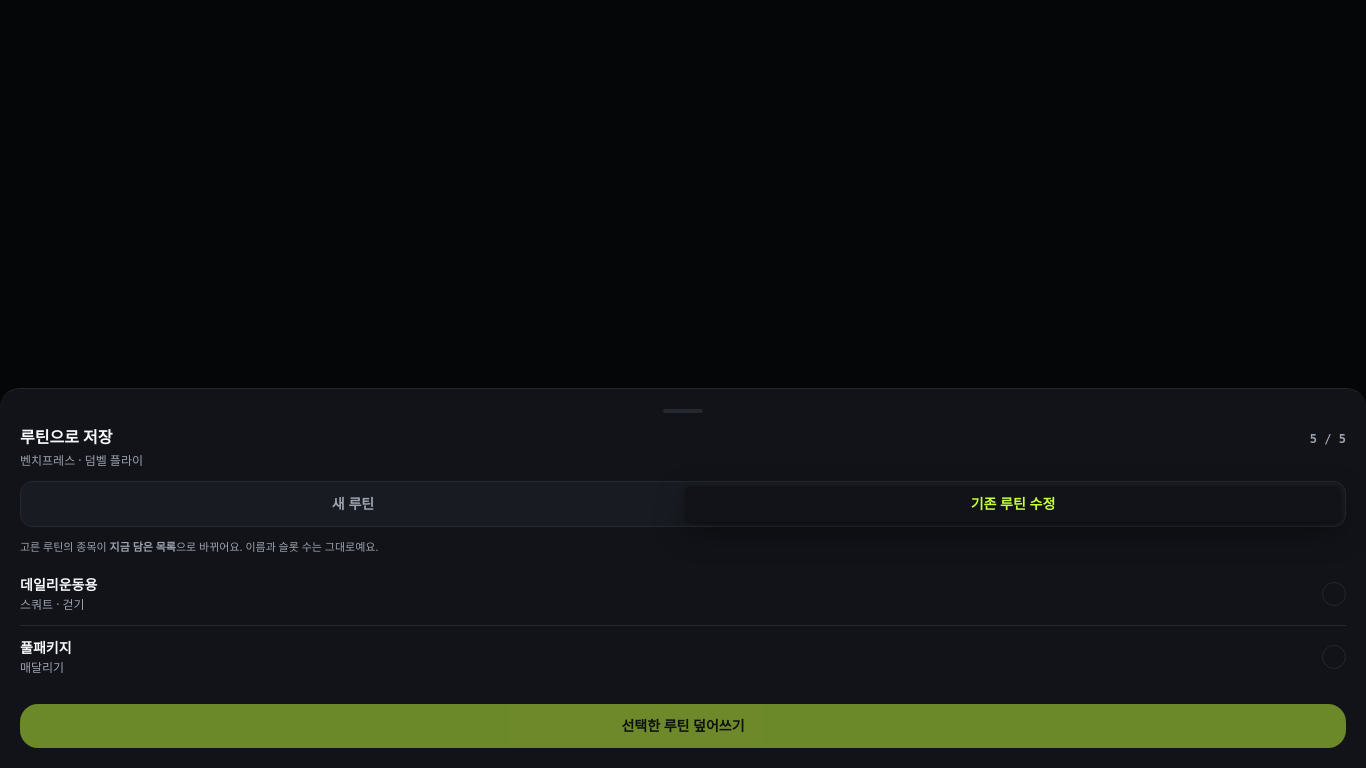
Test case: RoutineSaveSheet — 루틴으로 저장 (0056) › 더 열릴 슬롯이 없으면 기존 루틴을 지우라고 안내한다
The image size is (1366, 768).
Click the button "새 루틴" at (353, 504), box [25, 486, 681, 522]
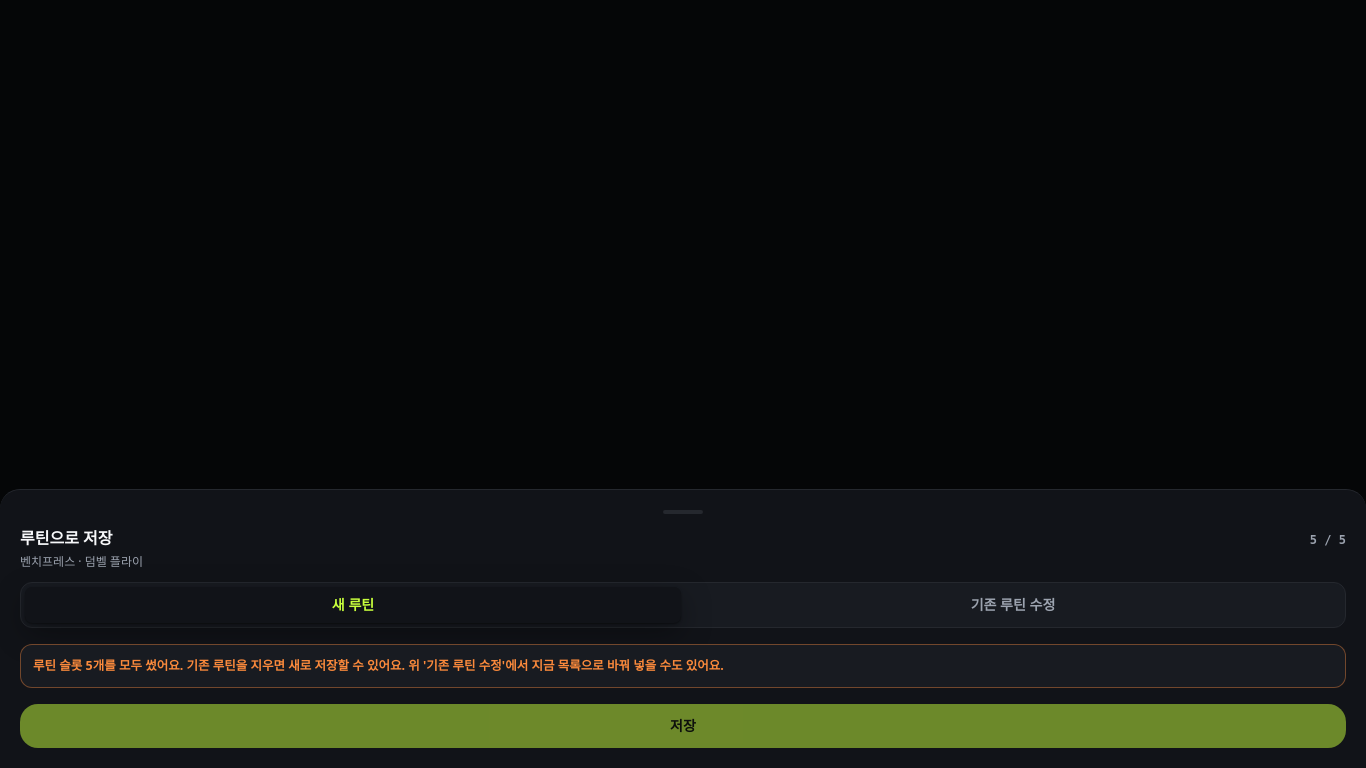
Now the text "기존 루틴을 지우면" is shown, box [33, 657, 724, 674]
